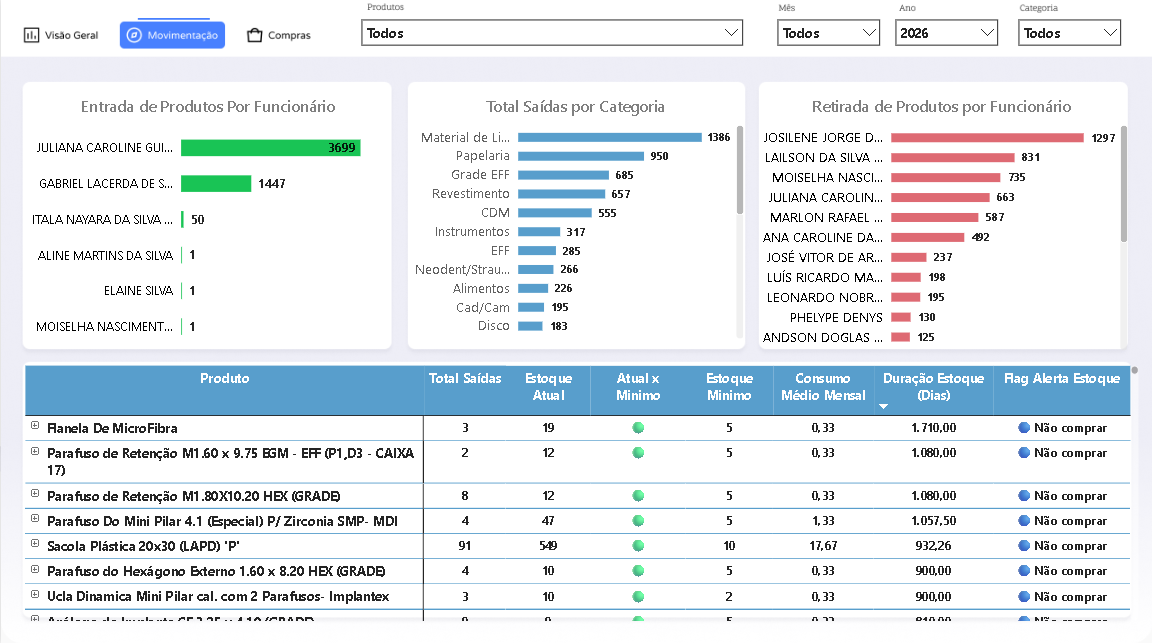

Layout of this report page (visuals, bound fields, positions):
{"tool":"powerbi","page":{"name":"Movimentação","canvas":[1280,720],"ordinal":1},"visuals":[{"type":"pivotTable","fields":{"Rows":["fProduto.Produto","dCalendario.NomeMes"],"Values":["Medidas.Total Saídas","Medidas.Estoque Atual","Medidas.Status Atual x Minimo","Sum(fProduto.Estoque mínimo)","Medidas.Média Saída 3 Meses","Medidas.Duração Estoque (Dias)","Medidas.Flag Alerta Estoque"]},"box":[10.7,395.9,1269.3,313.2],"z":0},{"type":"clusteredBarChart","title":"Retirada de Produtos por Funcionário","fields":{"Category":["fMovimentacao.Funcionário"],"Y":["Medidas.Total Saídas"]},"box":[821.9,95.3,445.5,313.2],"z":1000},{"type":"clusteredBarChart","title":"Entrada de Produtos Por Funcionário","fields":{"Category":["fMovimentacao.Funcionário"],"Y":["Medidas.Total Entrada"]},"box":[10.7,95.3,437.7,313.2],"z":2000},{"type":"actionButton","box":[44.7,13.6,104.1,39.9],"z":3000},{"type":"slicer","fields":{"Values":["dCalendario.NomeMes"]},"box":[857.9,20.4,124.5,40.9],"z":4000},{"type":"slicer","fields":{"Values":["dCalendario.Ano"]},"box":[989.2,20.4,124.5,40.9],"z":5000},{"type":"slicer","fields":{"Values":["fProduto.Categoria"]},"box":[1125.3,20.4,124.5,40.9],"z":6000},{"type":"clusteredBarChart","fields":{"Category":["fProduto.Categoria"],"Y":["Medidas.Total Saídas"]},"box":[436.7,95.6,404.4,300],"z":7000},{"type":"slicer","fields":{"Values":["fProduto.Produto"]},"box":[395.9,20.4,433.8,40.9],"z":7001}]}

Visuals, with their boxes on the page's 1280x720 design canvas (x1, y1, x2, y2). These are canvas units, not pixel positions in the 1152x643 screenshot, which may show the page scaled, cropped or inside an application window:
pivotTable - fProduto.Produto x dCalendario.NomeMes: x1=11 y1=396 x2=1280 y2=709
"Retirada de Produtos por Funcionário" clusteredBarChart: x1=822 y1=95 x2=1267 y2=408
"Entrada de Produtos Por Funcionário" clusteredBarChart: x1=11 y1=95 x2=448 y2=408
actionButton: x1=45 y1=14 x2=149 y2=54
slicer - dCalendario.NomeMes: x1=858 y1=20 x2=982 y2=61
slicer - dCalendario.Ano: x1=989 y1=20 x2=1114 y2=61
slicer - fProduto.Categoria: x1=1125 y1=20 x2=1250 y2=61
clusteredBarChart - fProduto.Categoria x Medidas.Total Saídas: x1=437 y1=96 x2=841 y2=396
slicer - fProduto.Produto: x1=396 y1=20 x2=830 y2=61
